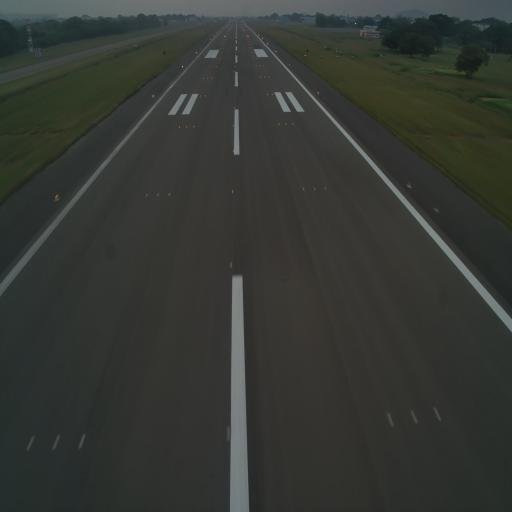off: (406, 178, 414, 194)
on: (227, 256, 234, 274), (301, 182, 307, 196), (53, 192, 59, 202), (144, 190, 150, 200), (322, 182, 328, 192), (229, 187, 234, 198), (156, 189, 161, 199), (165, 190, 171, 198), (312, 186, 318, 194), (277, 120, 281, 127), (192, 123, 195, 130), (285, 120, 288, 126), (291, 120, 294, 126), (178, 126, 181, 130), (186, 124, 188, 130), (232, 148, 234, 154), (233, 123, 235, 126)
